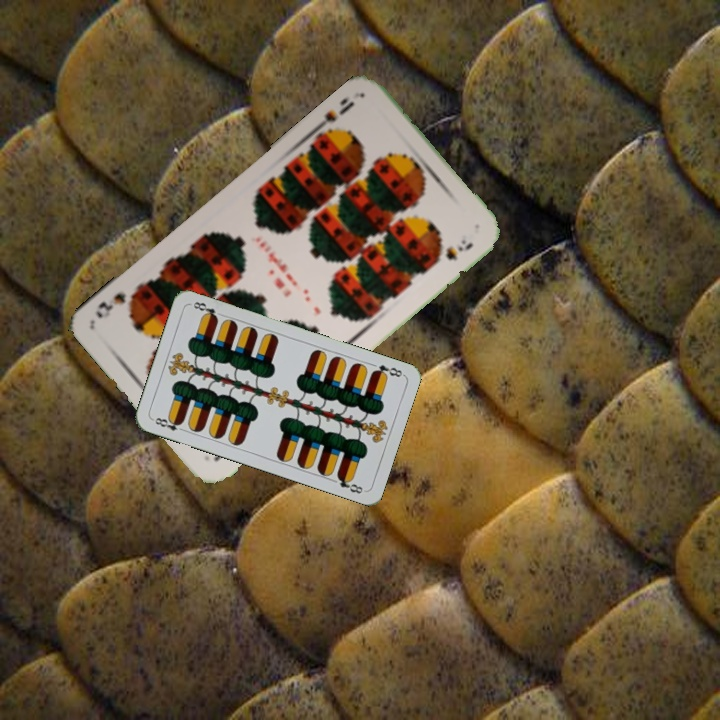E8: (149, 413, 188, 434), (368, 360, 406, 381)
S9: (311, 93, 357, 140)
